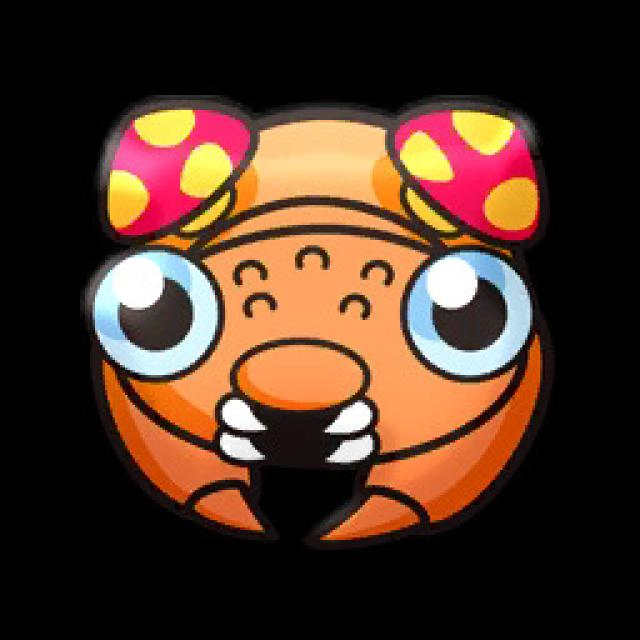Paras: (82, 98, 568, 555)
